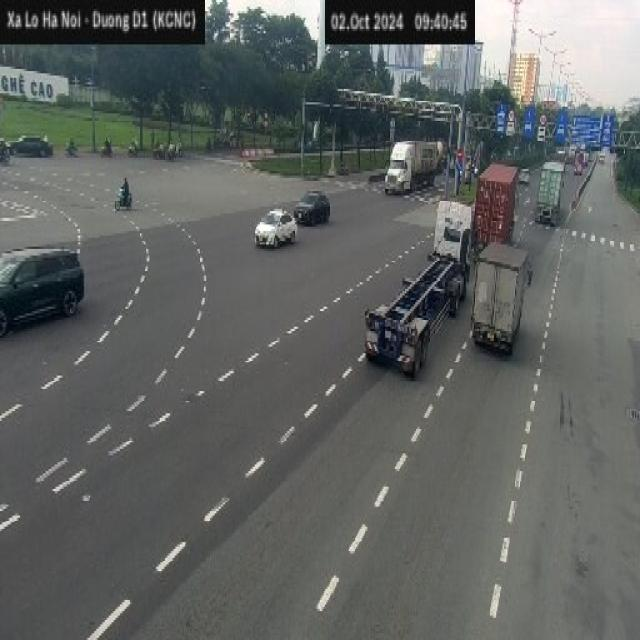car: (0, 244, 84, 338), (254, 206, 298, 246), (292, 189, 330, 224)
container-truck: (361, 197, 474, 385), (474, 160, 521, 249), (383, 138, 442, 193)
motorcycle: (114, 187, 131, 211)
person: (119, 176, 129, 204)
truck: (470, 240, 532, 353)
